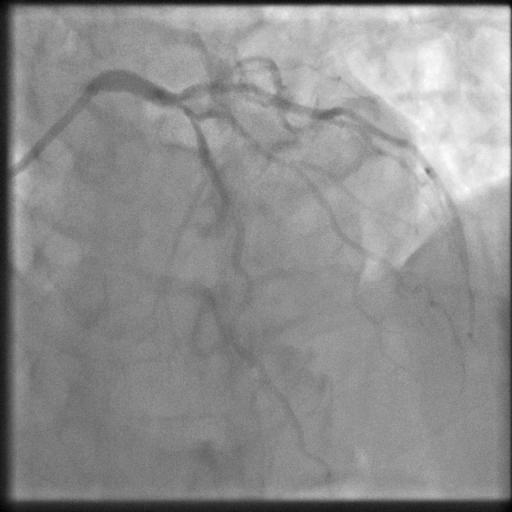Stenosis: (177, 98, 204, 134)
